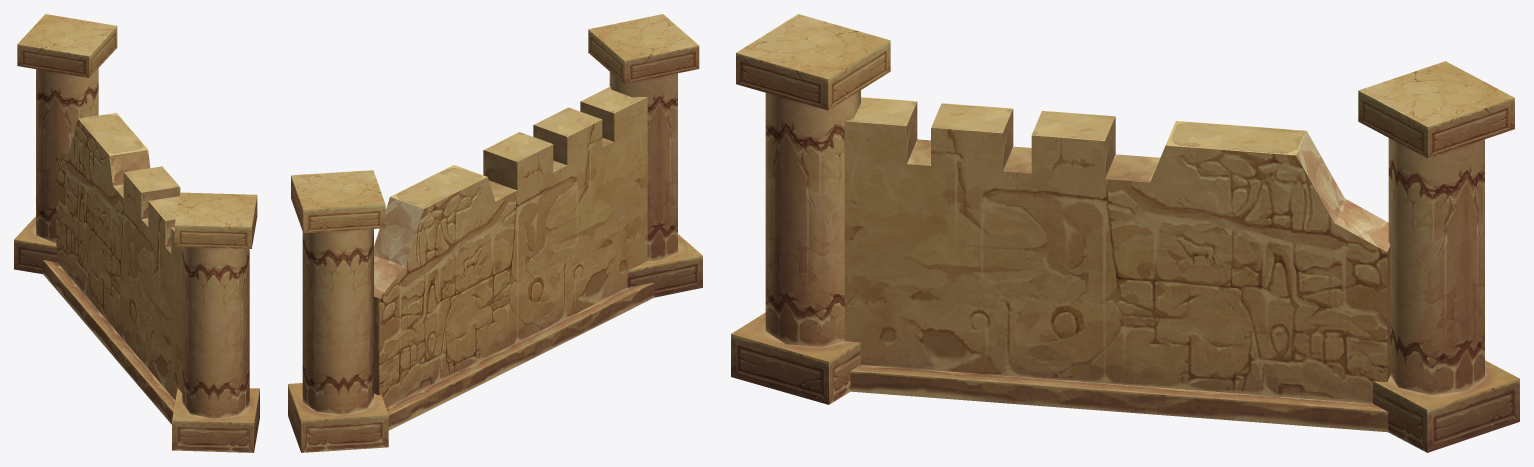
The model's file is Area_10_37.fbx.
The picture shows the model from 3 angles, left to right: view 1: azimuth 30°, elevation 25°; view 2: azimuth 150°, elevation 25°; view 3: azimuth 270°, elevation 25°; orthographic projection. The views are drawn at different scales.
Visible parts, largest first — view 1: Area_10_37; view 2: Area_10_37; view 3: Area_10_37.
Part boxes in pixels (<box>): Area_10_37: <box>14,14,259,452</box>; Area_10_37: <box>288,14,702,452</box>; Area_10_37: <box>731,14,1519,452</box>.
Bounding box in the file's own units: 319 × 409 × 905.
